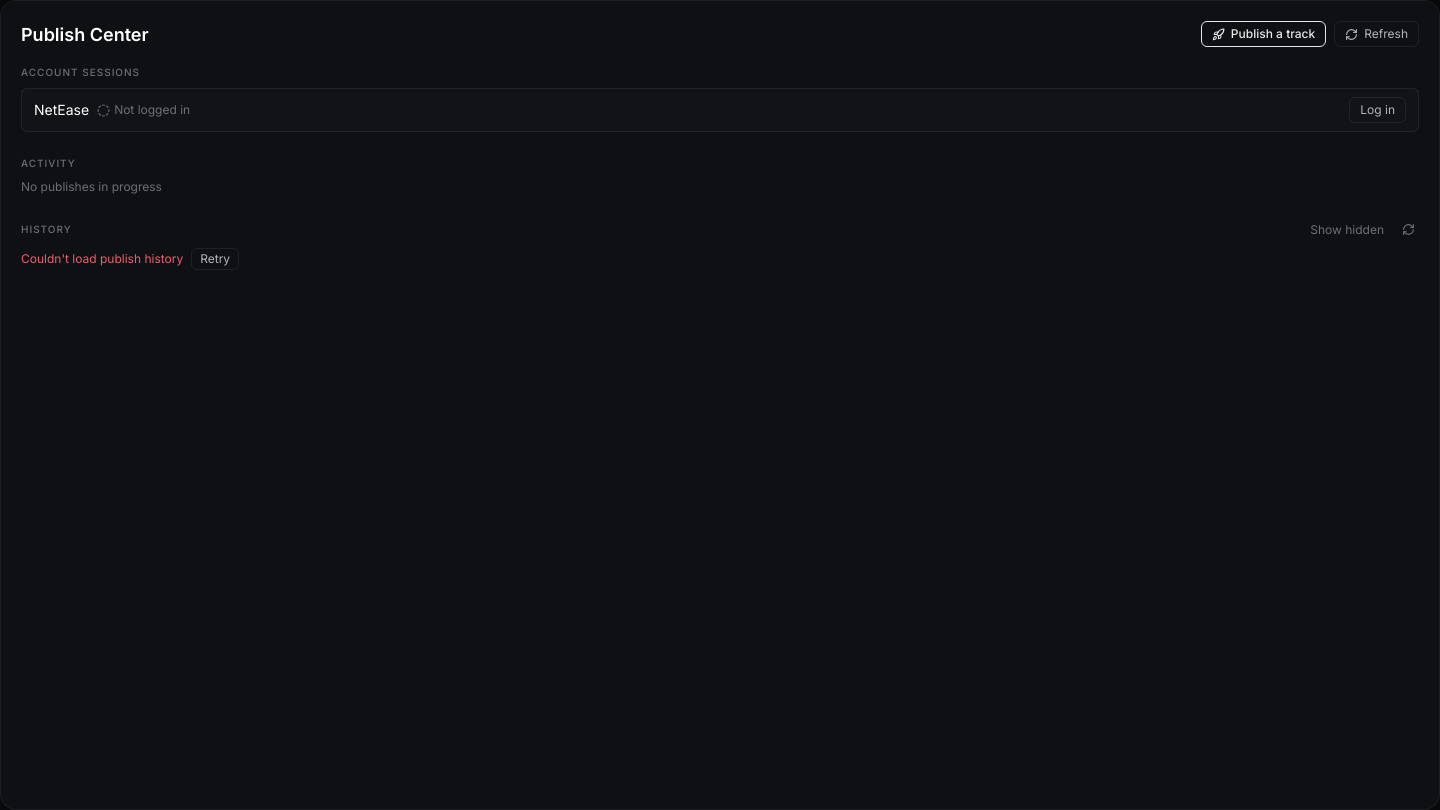
Test: PublishCenterPanel › flips the session row to Logged in on login success, independent of the re-probe
Click the button "Log in".
click(1378, 110)  # box [1349,97,1406,123]
Wait 2100 ms
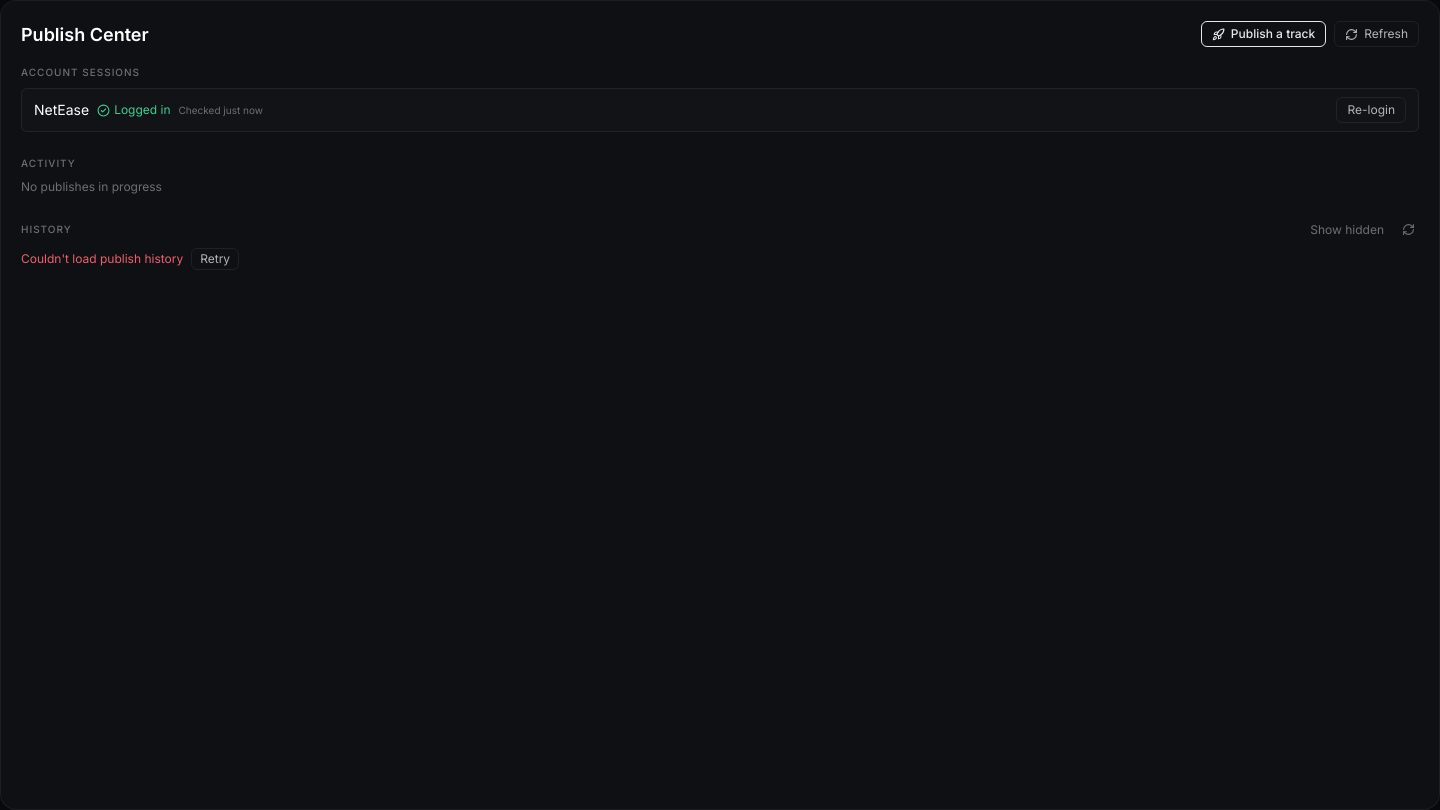
expect the button "Re-login" is shown: met, box [1336,97,1406,123]
